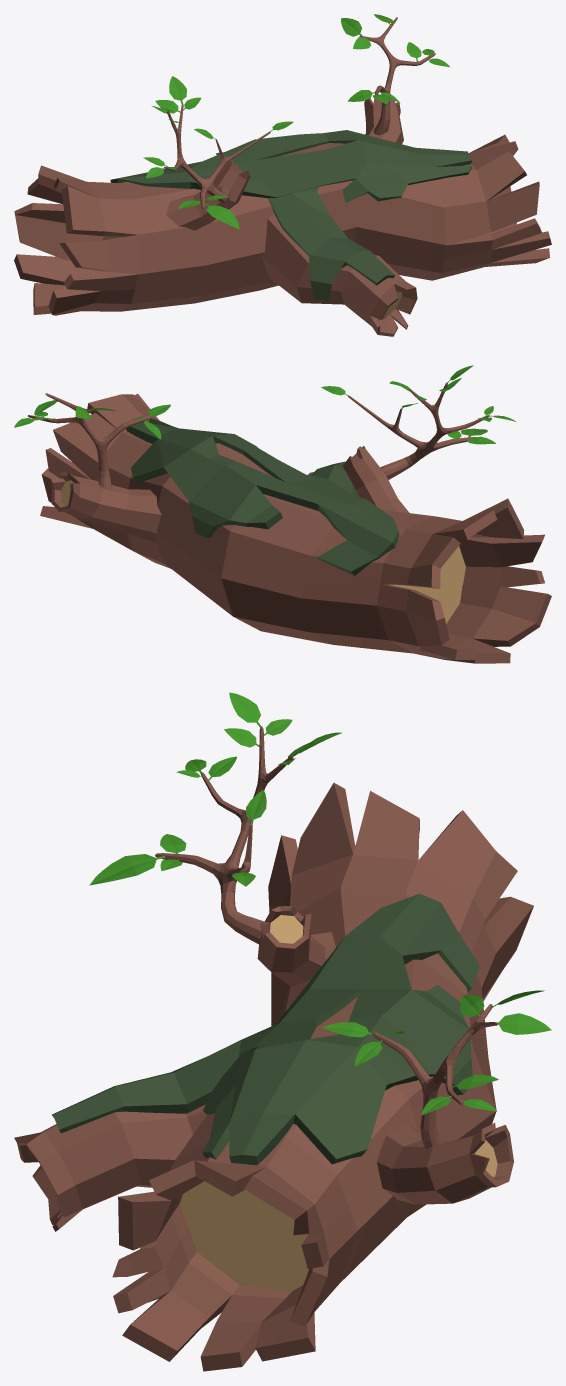
File: lptree.glb
3 views of the same model, one above another, from view 1: azimuth 30°, elevation 25°; view 2: azimuth 150°, elevation 25°; view 3: azimuth 270°, elevation 25° (orthographic). The views are drawn at different scales.
Parts seen in each view (by area): view 1: Бревно; view 2: Бревно; view 3: Бревно.
Part boxes in pixels (<box>): Бревно: <box>14,14,551,336</box>; Бревно: <box>14,365,551,663</box>; Бревно: <box>14,692,551,1371</box>.
Size of the model in its own units: 0.9659 by 0.4758 by 0.5815.
